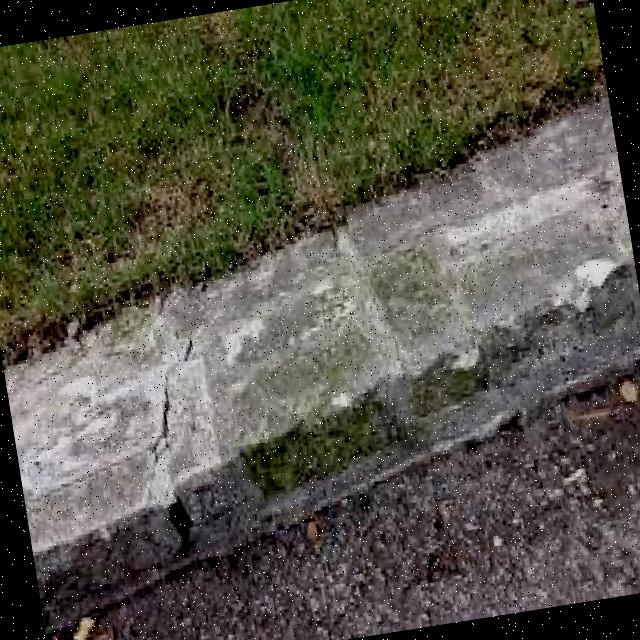curb: (198, 221, 555, 541), (15, 306, 351, 636), (345, 152, 640, 427)
